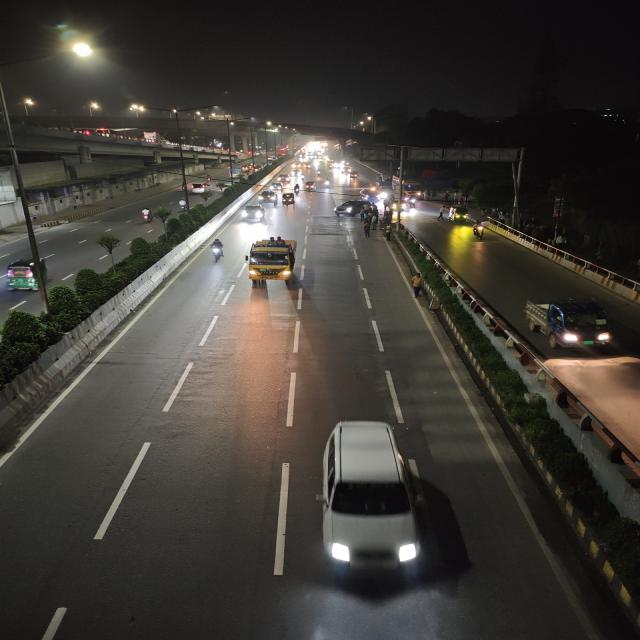car: (310, 414, 474, 596), (237, 203, 266, 224), (333, 200, 363, 218), (258, 191, 277, 205), (189, 182, 210, 194), (265, 182, 284, 192), (275, 173, 290, 185)
cng: (1, 253, 55, 294), (450, 205, 469, 223), (280, 192, 297, 206), (304, 182, 316, 192)
motorcycle: (204, 236, 228, 266), (469, 218, 489, 240), (138, 206, 154, 224), (177, 195, 190, 212), (407, 199, 417, 209)
pedestrian: (381, 224, 395, 242), (361, 220, 373, 238), (436, 205, 446, 223), (366, 222, 377, 236)
pickup_van: (520, 294, 619, 354), (242, 235, 302, 287)
